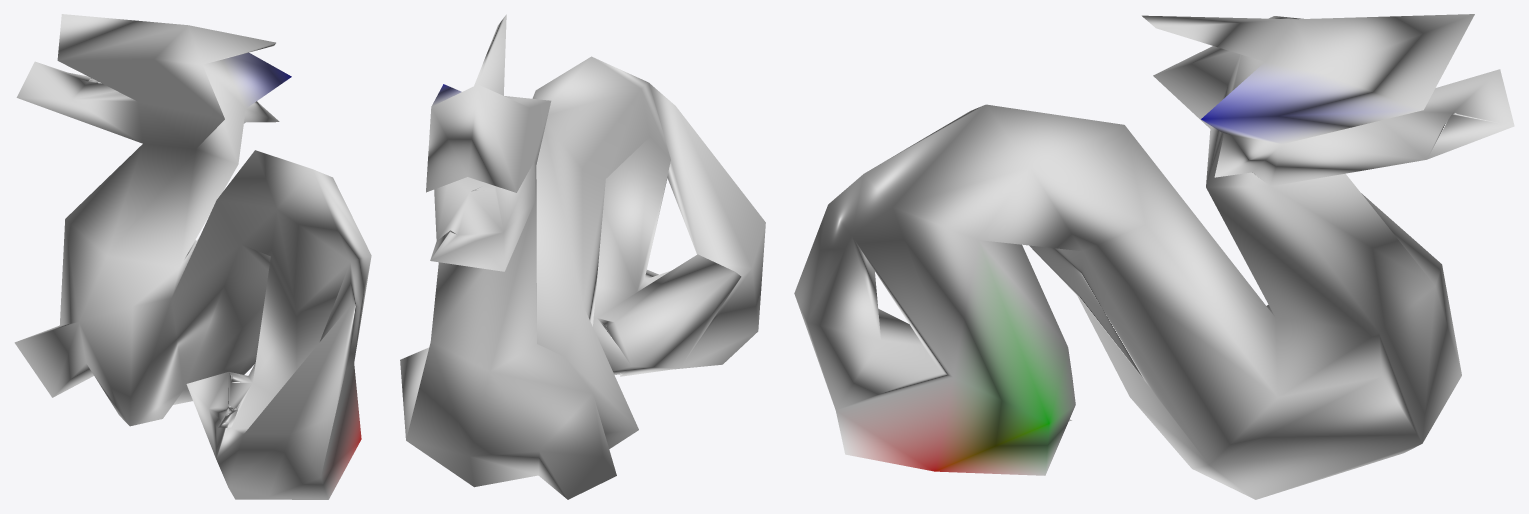
Rendered from Dragon_8K_4.fbx.
3 views of the same model, side by side, from view 1: azimuth 30°, elevation 25°; view 2: azimuth 150°, elevation 25°; view 3: azimuth 270°, elevation 25° (orthographic). The views are drawn at different scales.
Bounding box in the file's own units: 0.4125 × 0.672 × 0.9033.
